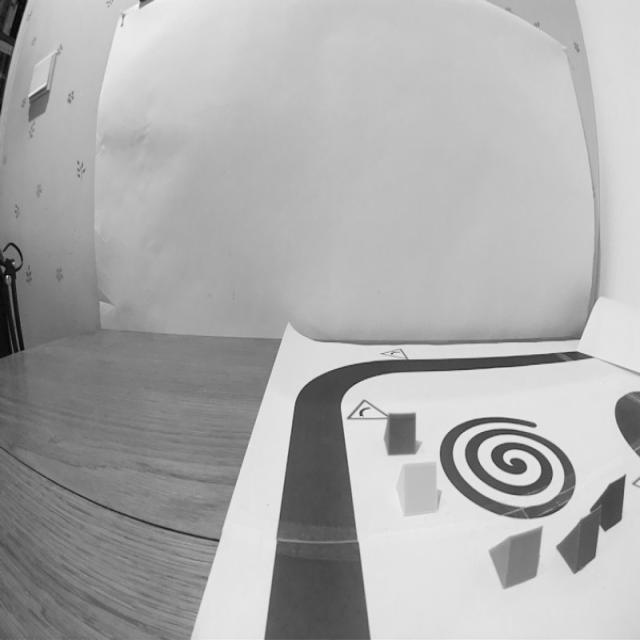lineStraight: (258, 485, 377, 640)
nest: (434, 410, 582, 522)
triangle: (484, 522, 546, 592), (550, 505, 602, 579), (392, 456, 442, 520), (589, 466, 628, 537), (382, 408, 421, 458)
